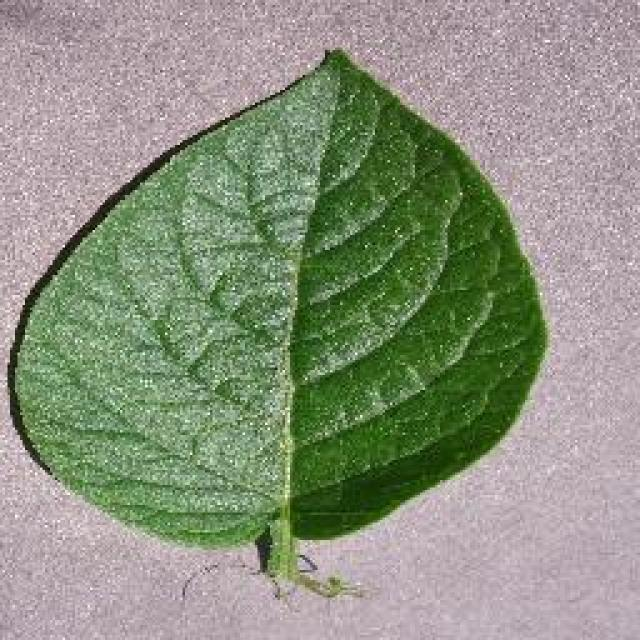Potato: (5, 45, 550, 595)
